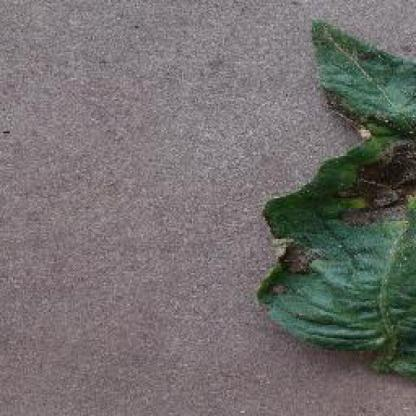Tomato_Blight: (258, 21, 416, 374)
